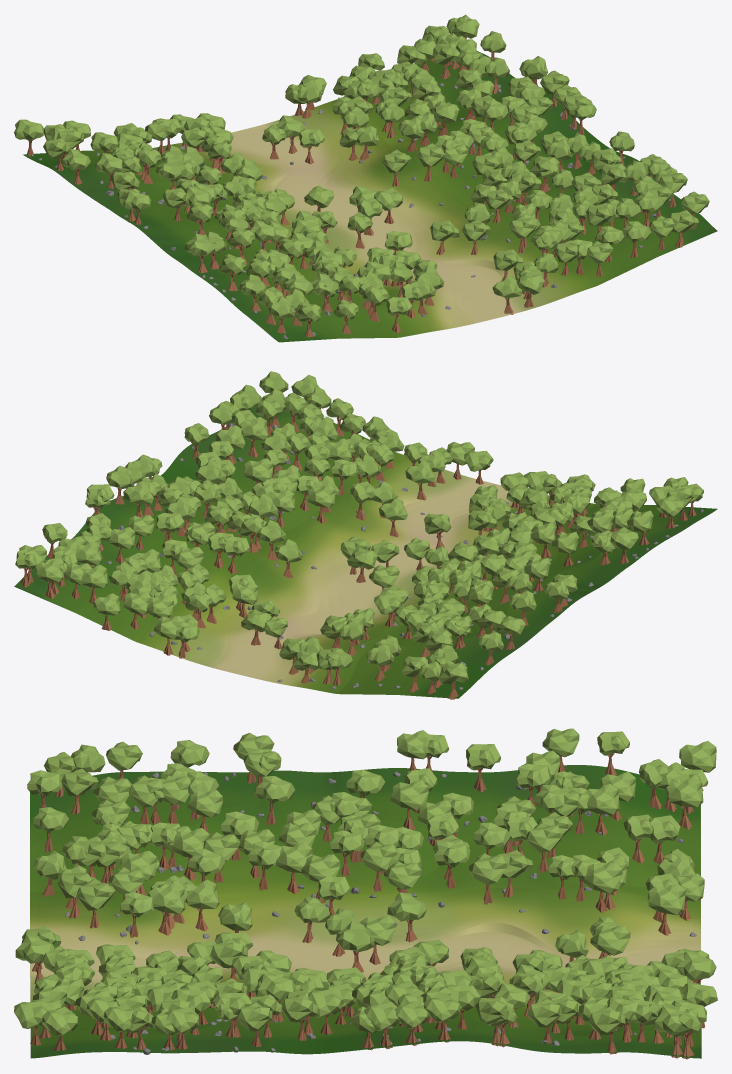
The model's file is Map.fbx.
3 views of the same model, one above another, from view 1: azimuth 30°, elevation 25°; view 2: azimuth 150°, elevation 25°; view 3: azimuth 270°, elevation 25° (orthographic). The views are drawn at different scales.
Visible parts, largest first — view 1: Plane, Plane|Mball.006|Dupli|27.1, Plane|Mball.006|Dupli|91.1, Plane|Mball.006|Dupli|83.1, Plane|Mball.006|Dupli|135.1, Plane|Mball.006|Dupli|7.1, Plane|Mball.006|Dupli|123.1, Plane|Mball.006|Dupli|77.1, Plane|Mball.006|Dupli|81.1, Plane|Mball.006|Dupli|221.1, Plane|Mball.006|Dupli|141.1, Plane|Mball.006|Dupli|63.1 (+5 smaller); view 2: Plane, Plane|Mball.006|Dupli|11.1, Plane|Mball.006|Dupli|107.1, Plane|Mball.006|Dupli|91.1, Plane|Mball.006|Dupli|75.1, Plane|Mball.006|Dupli|69.1, Plane|Mball.006|Dupli|173.1, Plane|Mball.006|Dupli|135.1, Plane|Mball.006|Dupli|231.1, Plane|Mball.006|Dupli|145.1, Plane|Mball.006|Dupli|229.1, Plane|Mball.006|Dupli|101.1 (+21 smaller); view 3: Plane, Plane|Mball.006|Dupli|155.1, Plane|Mball.006|Dupli|163.1, Plane|Mball.006|Dupli|93.1, Plane|Mball.006|Dupli|49.1, Plane|Mball.006|Dupli|175.1, Plane|Mball.006|Dupli|169.1, Plane|Mball.006|Dupli|181.1, Plane|Mball.006|Dupli|81.1, Plane|Mball.006|Dupli|151.1, Plane|Mball.006|Dupli|53.1, Plane|Mball.006|Dupli|41.1 (+107 smaller).
Part boxes in pixels (x1,y1,x2,y2): Plane: (23,51,717,342); Plane|Mball.006|Dupli|27.1: (184,233,215,272); Plane|Mball.006|Dupli|91.1: (14,119,43,157); Plane|Mball.006|Dupli|83.1: (492,275,522,314); Plane|Mball.006|Dupli|135.1: (416,143,444,181); Plane|Mball.006|Dupli|7.1: (669,210,698,247); Plane|Mball.006|Dupli|123.1: (433,42,459,79); Plane|Mball.006|Dupli|77.1: (516,271,544,307); Plane|Mball.006|Dupli|81.1: (374,188,402,223); Plane|Mball.006|Dupli|221.1: (430,101,459,136); Plane|Mball.006|Dupli|141.1: (382,149,411,186); Plane|Mball.006|Dupli|63.1: (430,220,459,254); Plane: (14,407,717,698); Plane|Mball.006|Dupli|11.1: (239,417,268,457); Plane|Mball.006|Dupli|107.1: (35,558,63,598); Plane|Mball.006|Dupli|91.1: (439,663,468,699); Plane|Mball.006|Dupli|75.1: (308,484,335,523); Plane|Mball.006|Dupli|69.1: (405,460,435,500); Plane|Mball.006|Dupli|173.1: (347,547,377,582); Plane|Mball.006|Dupli|135.1: (256,520,286,560); Plane|Mball.006|Dupli|231.1: (123,592,151,629); Plane|Mball.006|Dupli|145.1: (154,615,184,655); Plane|Mball.006|Dupli|229.1: (81,564,107,604); Plane|Mball.006|Dupli|101.1: (123,481,153,517); Plane: (30,765,701,1058); Plane|Mball.006|Dupli|155.1: (647,883,685,935); Plane|Mball.006|Dupli|163.1: (583,862,622,912); Plane|Mball.006|Dupli|93.1: (666,777,703,829); Plane|Mball.006|Dupli|49.1: (148,883,185,935); Plane|Mball.006|Dupli|175.1: (390,780,428,829); Plane|Mball.006|Dupli|169.1: (468,853,507,904); Plane|Mball.006|Dupli|181.1: (585,784,619,835); Plane|Mball.006|Dupli|81.1: (336,921,374,972); Plane|Mball.006|Dupli|151.1: (387,892,426,942); Plane|Mball.006|Dupli|53.1: (76,878,115,928); Plane|Mball.006|Dupli|41.1: (276,842,312,893).
Bounding box in the file's own units: 9485 × 1600 × 9654.
Materials: 4 (1 with a texture image).
